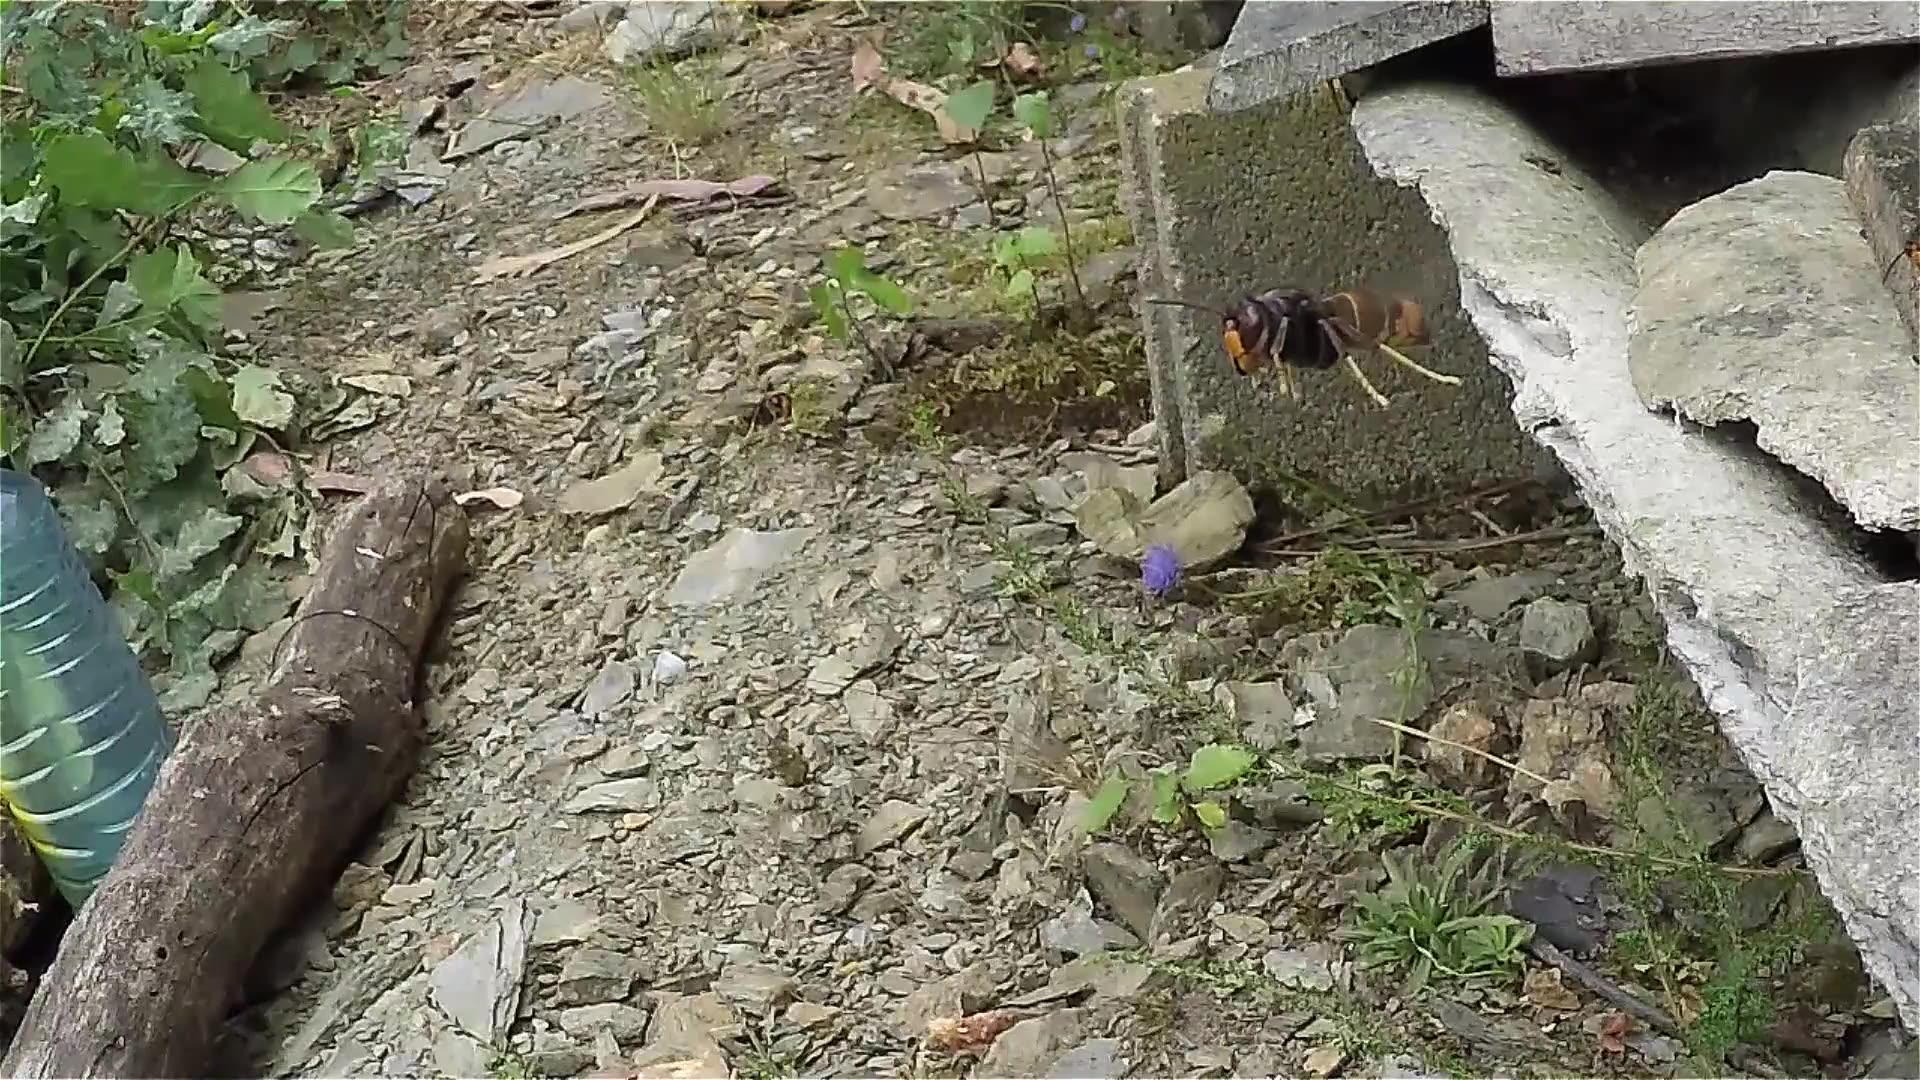hornet: (1221, 277, 1447, 401), (717, 382, 807, 444)
